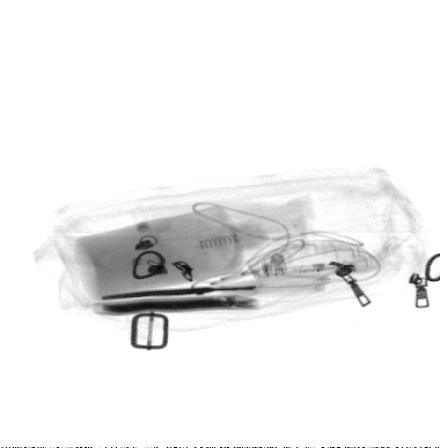Powerbank: (86, 293, 267, 320)
Scissors: (95, 261, 330, 302)
